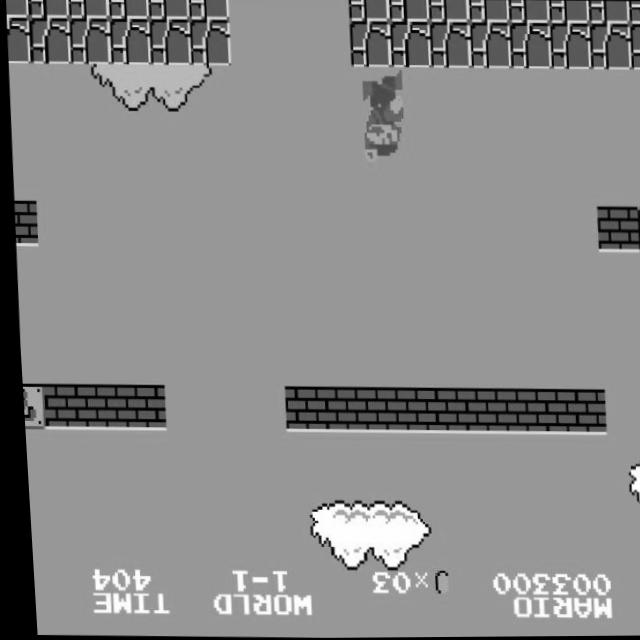0- big_mario: (358, 70, 408, 165)
1- brick_block: (593, 206, 637, 254), (558, 389, 602, 435), (518, 389, 562, 435), (478, 389, 522, 435), (438, 388, 482, 434), (398, 388, 442, 434), (358, 387, 402, 433), (318, 387, 362, 433), (278, 386, 322, 432), (118, 384, 162, 430), (78, 384, 122, 430), (38, 383, 82, 429), (10, 200, 35, 246)
13- mystery_block: (18, 383, 41, 428)
17- undestructible_block: (147, 18, 192, 66), (67, 17, 112, 65), (187, 19, 232, 66), (107, 18, 152, 65), (587, 23, 631, 71), (508, 22, 552, 70), (428, 21, 472, 69), (548, 23, 592, 70), (468, 22, 512, 69), (388, 21, 432, 68), (348, 21, 392, 68), (27, 17, 71, 64), (5, 17, 30, 63), (588, 1, 630, 25), (548, 1, 590, 25), (508, 0, 550, 24), (468, 0, 510, 24), (428, 0, 470, 23), (388, 0, 430, 23), (348, 0, 390, 22), (187, 0, 229, 20), (147, 0, 189, 20), (107, 0, 149, 19), (67, 0, 109, 19), (27, 0, 69, 18), (628, 24, 640, 70), (5, 0, 28, 17), (628, 2, 640, 24)
3- empty_block: (634, 207, 640, 253)
